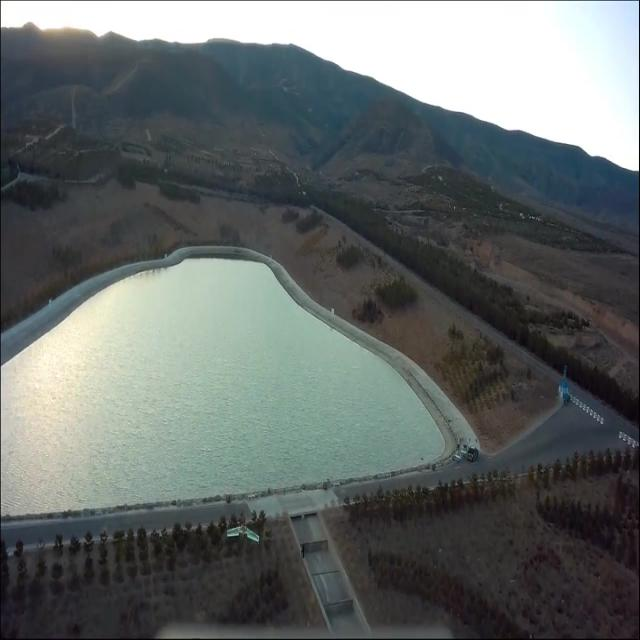iha: (226, 523, 260, 544)
